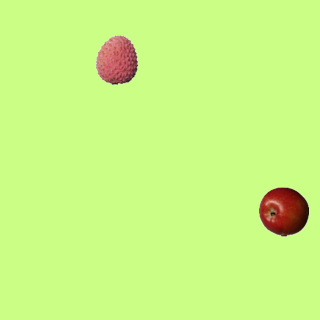Apple Braeburn: (258, 186, 308, 236)
Lychee: (91, 34, 141, 84)
